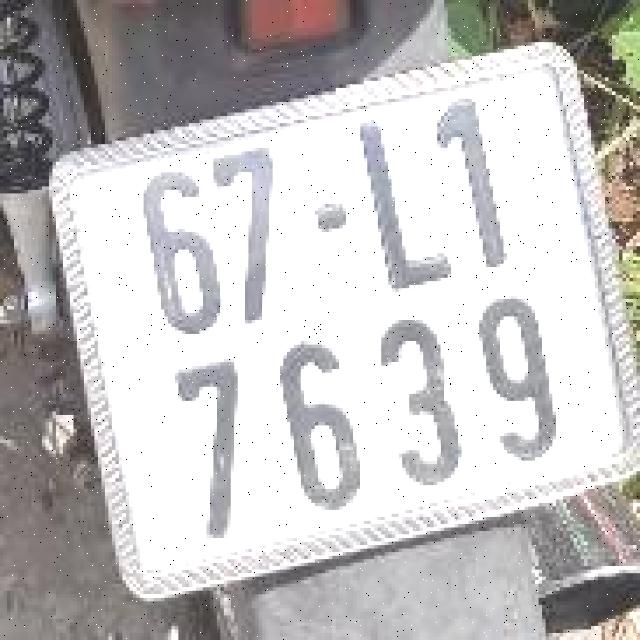1: (439, 88, 530, 271)
3: (371, 314, 462, 490)
6: (274, 339, 369, 519), (128, 167, 222, 343)
7: (166, 357, 243, 547), (213, 148, 287, 327)
9: (467, 288, 565, 475)
L: (336, 98, 471, 304)
